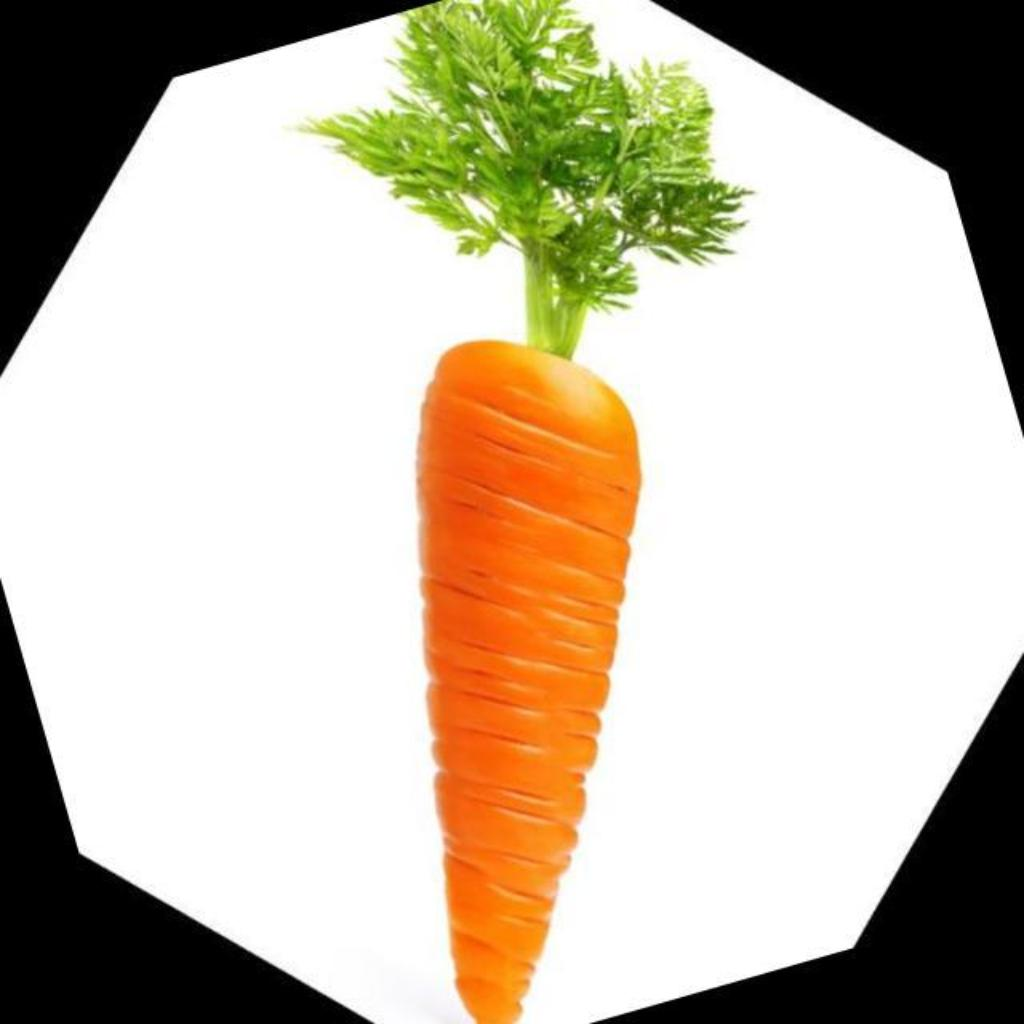carrot: (308, 0, 746, 1024)
